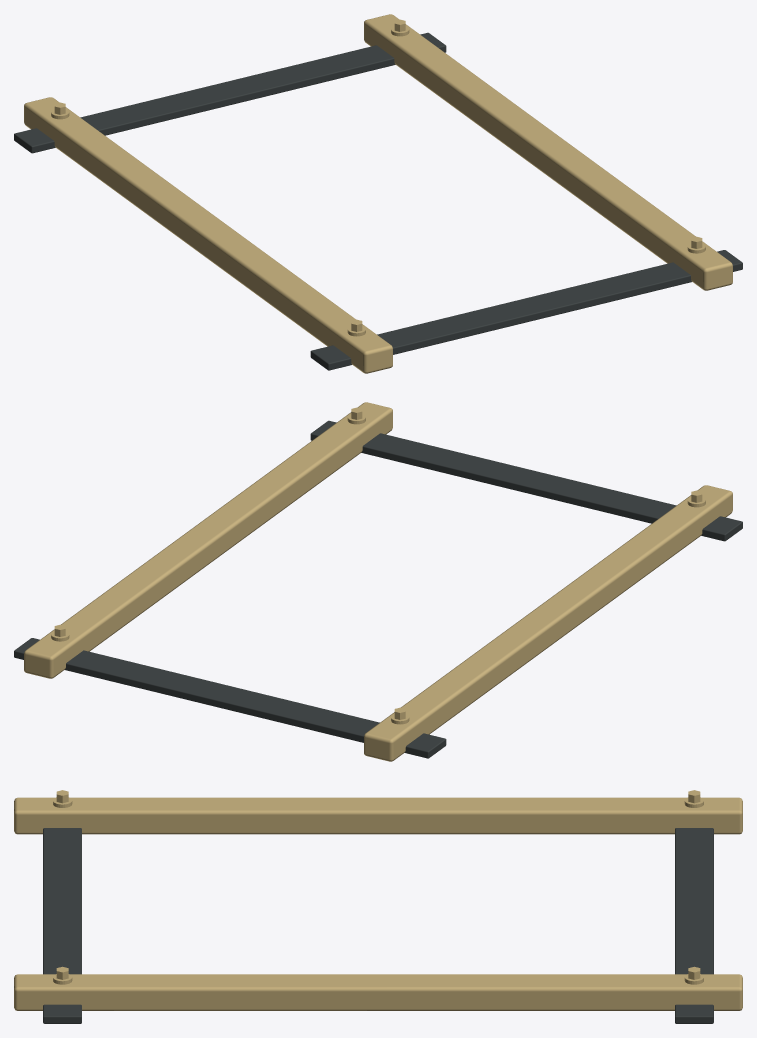
Rendered from city-courthouse-and-records-office-city-courthouse-and-41bfb249__30990.glb.
The picture shows the model from 3 angles, top to bottom: view 1: azimuth 30°, elevation 25°; view 2: azimuth 150°, elevation 25°; view 3: azimuth 270°, elevation 25°; orthographic projection. The views are drawn at different scales.
Visible parts, largest first — view 1: city-courthouse-and-records-office-archive-rail-section; view 2: city-courthouse-and-records-office-archive-rail-section; view 3: city-courthouse-and-records-office-archive-rail-section.
Boxes of the visible parts, x1=… form: city-courthouse-and-records-office-archive-rail-section: x1=14, y1=14, x2=742, y2=373; city-courthouse-and-records-office-archive-rail-section: x1=14, y1=402, x2=742, y2=761; city-courthouse-and-records-office-archive-rail-section: x1=14, y1=790, x2=742, y2=1023.
Bounding box in the file's own units: 1.05 × 0.08 × 1.5.
